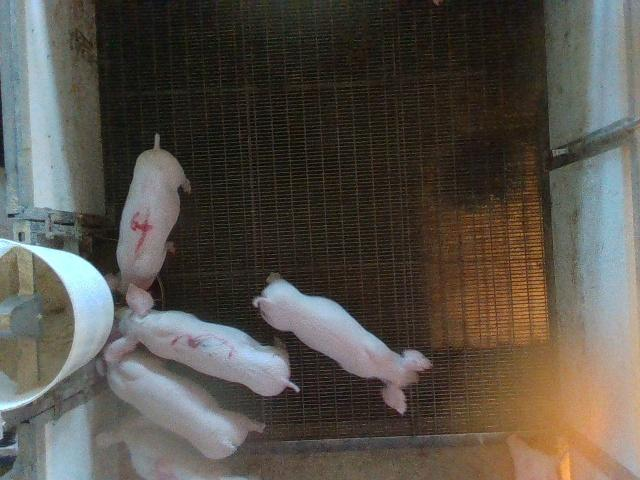pig-4: (105, 284, 299, 396), (116, 134, 191, 289)
